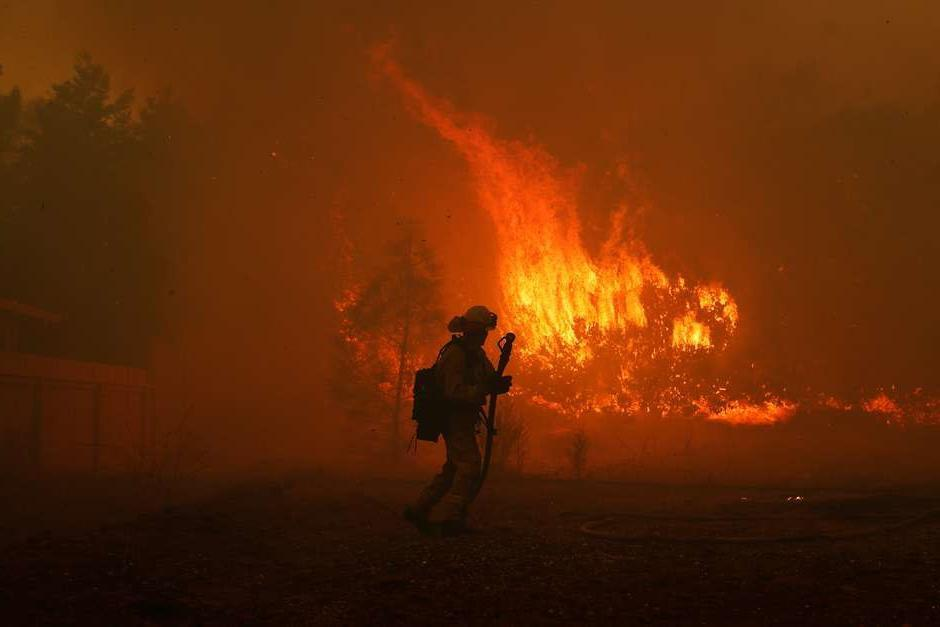Fire: (413, 46, 741, 372), (516, 378, 936, 435)
